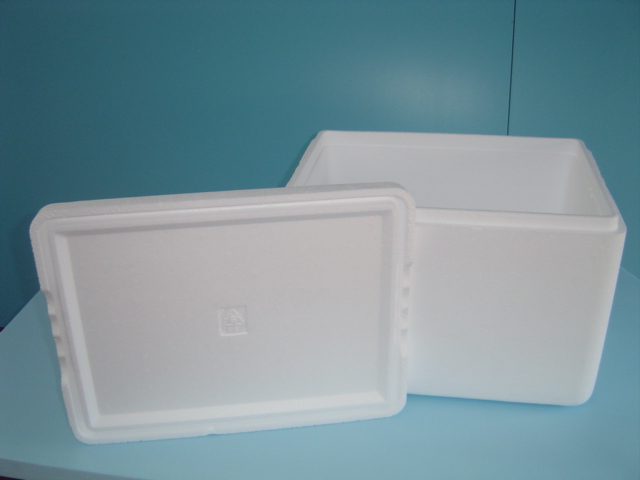泡沫箱: (30, 131, 624, 441)
